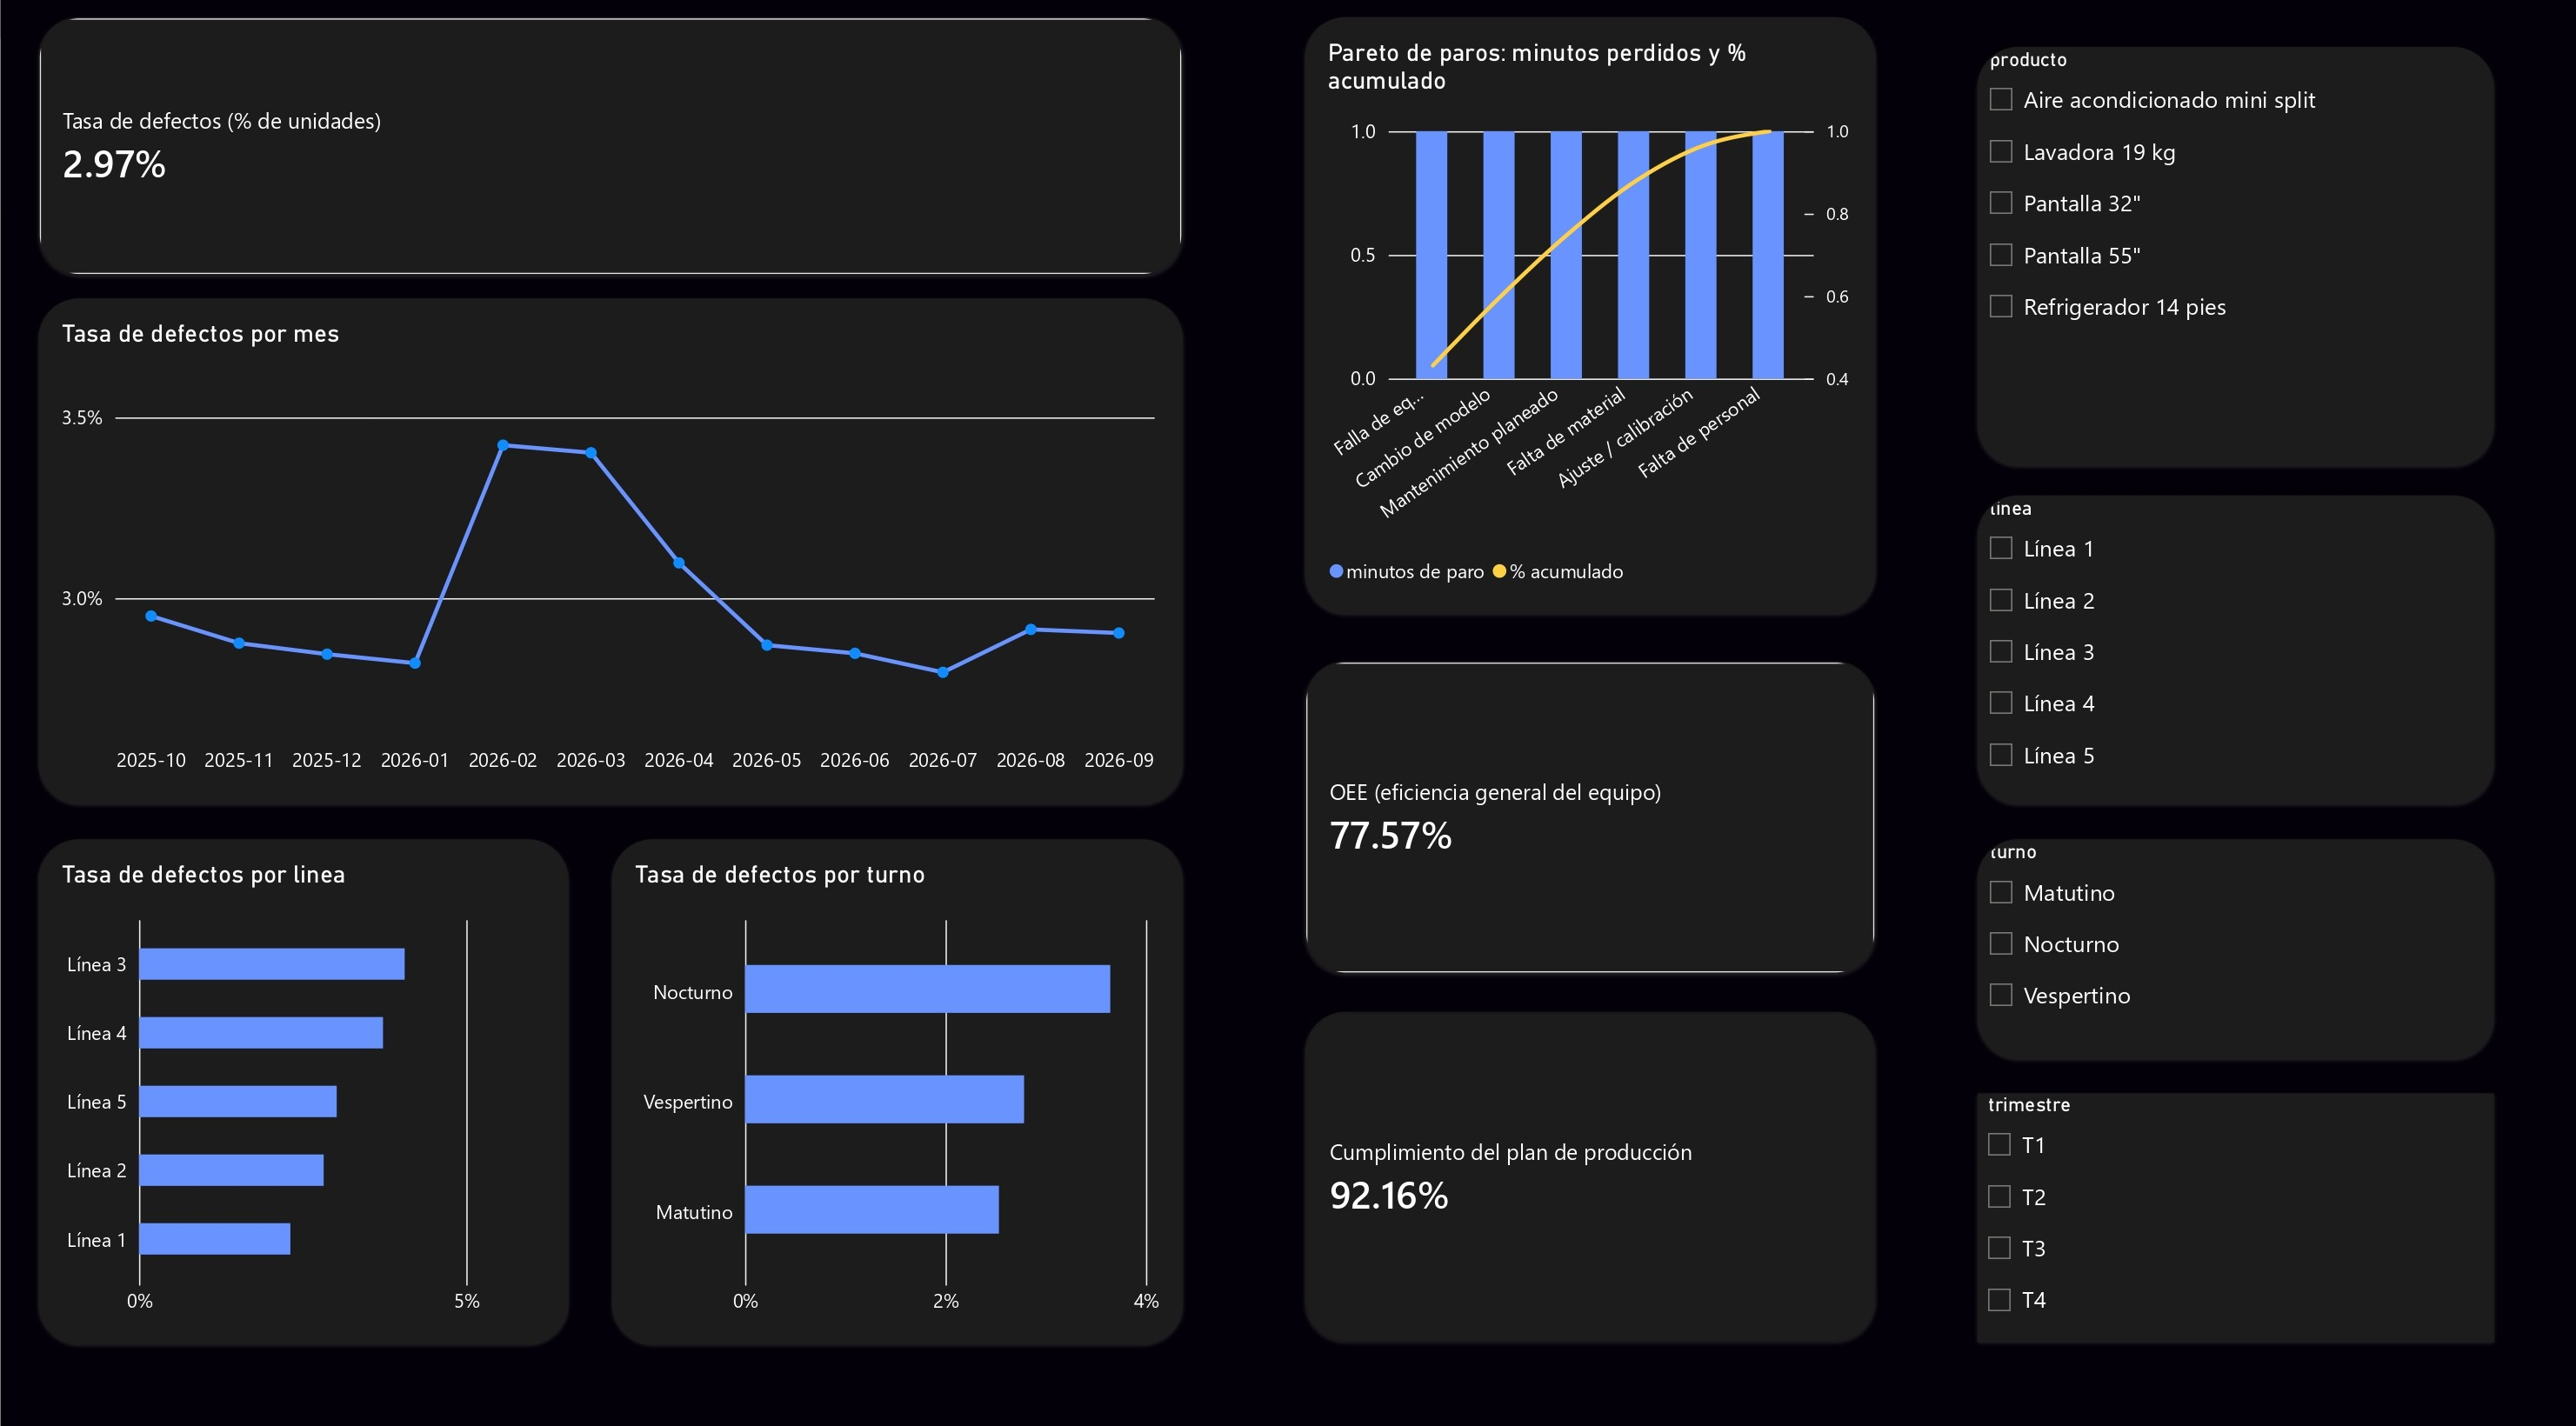

Layout of this report page (visuals, bound fields, positions):
{"tool":"powerbi","page":{"name":"OEE y defectos","canvas":[1920,1080],"ordinal":1},"visuals":[{"type":"cardVisual","fields":{"Data":["planta_analytics fact_produccion.OEE"]},"box":[960,491.7,420,230],"z":0},{"type":"slicer","fields":{"Values":["planta_analytics dim_linea.linea"]},"box":[1455,370,380,226.7],"z":1000},{"type":"slicer","fields":{"Values":["planta_analytics dim_turno.turno"]},"box":[1455,623.3,380,161.7],"z":2000},{"type":"cardVisual","fields":{"Data":["planta_analytics fact_produccion.cumplimiento de la meta"]},"box":[960,750,420,243.3],"z":3000},{"type":"slicer","fields":{"Values":["planta_analytics dim_fecha.trimestre"]},"box":[1455,810,380,183.3],"z":9000},{"type":"cardVisual","fields":{"Data":["planta_analytics fact_defectos.Tasa de defectos"]},"box":[28.3,18.3,841.7,190],"z":10000},{"type":"clusteredBarChart","title":"Tasa de defectos por linea","fields":{"Category":["planta_analytics dim_linea.linea"],"Y":["planta_analytics fact_defectos.Tasa de defectos"]},"box":[28.3,623.3,390,371.7],"z":11000},{"type":"lineChart","title":"Tasa de defectos por mes","fields":{"Category":["planta_analytics dim_fecha.anio_mes"],"Y":["planta_analytics fact_defectos.Tasa de defectos"]},"box":[28.3,225,841.7,371.7],"z":12000},{"type":"clusteredBarChart","title":"Tasa de defectos por turno","fields":{"Category":["planta_analytics dim_turno.turno"],"Y":["planta_analytics fact_defectos.Tasa de defectos"]},"box":[450,623.3,420,371.7],"z":13000},{"type":"slicer","fields":{"Values":["planta_analytics dim_producto.producto"]},"box":[1455,40,380,308.3],"z":14000},{"type":"lineStackedColumnComboChart","title":"Pareto de paros: minutos perdidos y % acumulado","fields":{"Category":["planta_analytics fact_paros.categoria_paro"],"Y":["planta_analytics fact_paros.minutos de paro"],"Y2":["planta_analytics fact_paros.% acumulado"]},"box":[960,18.3,420,438.3],"z":15000}]}

Visuals, with their boxes in screenshot pixels (x1, y1, x2, y2), scaled from the page's 1920x1080 canvas onto the 2576x1426 screenshot:
cardVisual - planta_analytics fact_produccion.OEE: (x1=1288, y1=650, x2=1852, y2=953)
slicer - planta_analytics dim_linea.linea: (x1=1952, y1=489, x2=2462, y2=788)
slicer - planta_analytics dim_turno.turno: (x1=1952, y1=823, x2=2462, y2=1036)
cardVisual - planta_analytics fact_produccion.cumplimiento de la meta: (x1=1288, y1=990, x2=1852, y2=1311)
slicer - planta_analytics dim_fecha.trimestre: (x1=1952, y1=1069, x2=2462, y2=1311)
cardVisual - planta_analytics fact_defectos.Tasa de defectos: (x1=38, y1=24, x2=1167, y2=275)
"Tasa de defectos por linea" clusteredBarChart: (x1=38, y1=823, x2=561, y2=1314)
"Tasa de defectos por mes" lineChart: (x1=38, y1=297, x2=1167, y2=788)
"Tasa de defectos por turno" clusteredBarChart: (x1=604, y1=823, x2=1167, y2=1314)
slicer - planta_analytics dim_producto.producto: (x1=1952, y1=53, x2=2462, y2=460)
"Pareto de paros: minutos perdidos y % acumulado" lineStackedColumnComboChart: (x1=1288, y1=24, x2=1852, y2=603)
